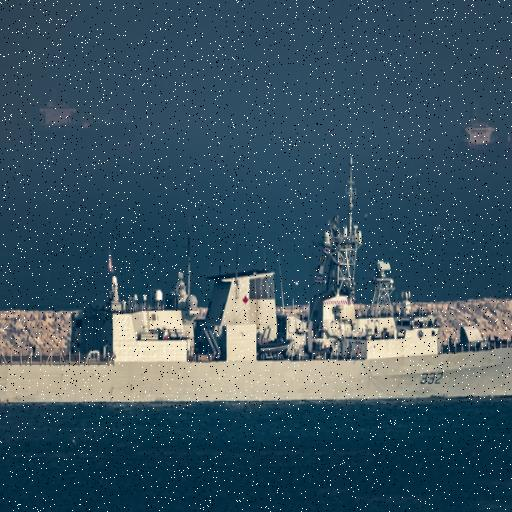Fragata: (1, 145, 512, 416)
